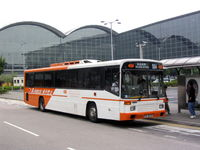bus: (21, 56, 167, 120)
